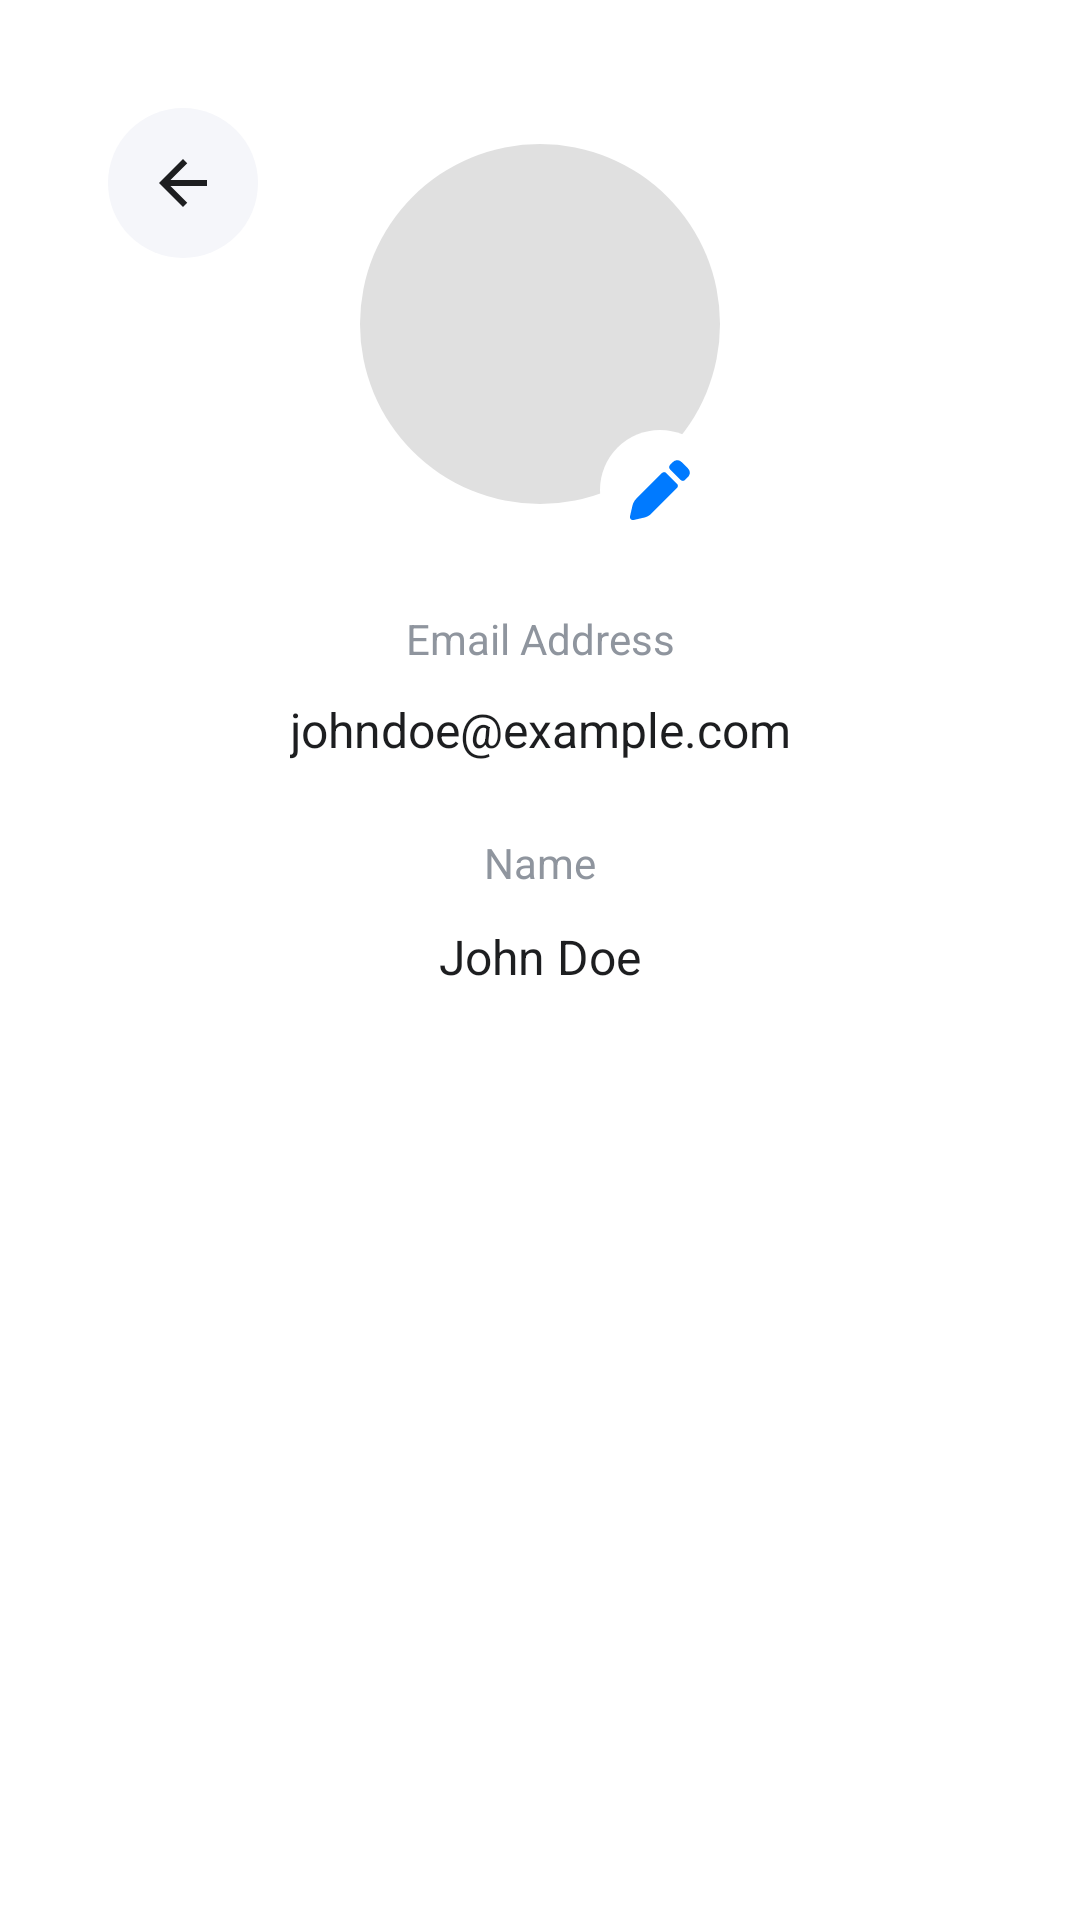

Where icons sit on this 1080 × 1920 app screen, as box(x1, y1, x2, y2):
arrow: box(108, 108, 258, 258)
Edit Profile Picture: box(630, 460, 690, 520)
